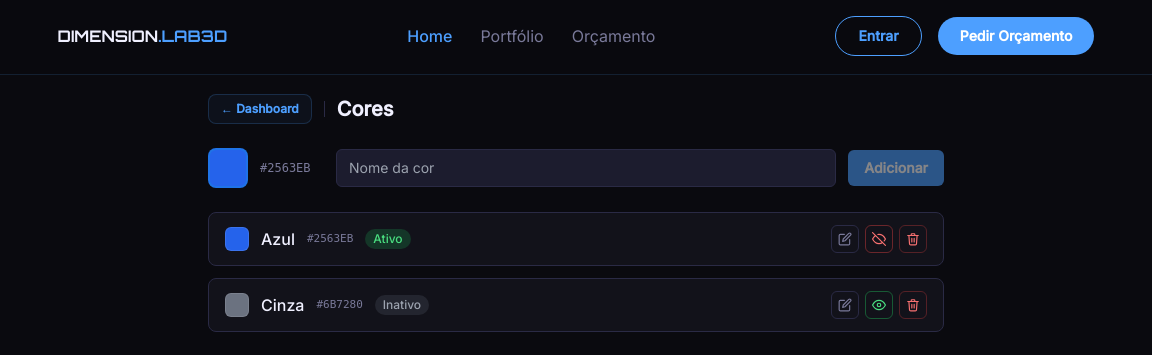
Scenario: ColorsAdmin › enters edit mode when edit button clicked
expect the text "Azul" is shown: met, box [261,227,295,251]
Click the button named "editar" in the row of "Azul" at (845, 239), box [831,225,859,253]
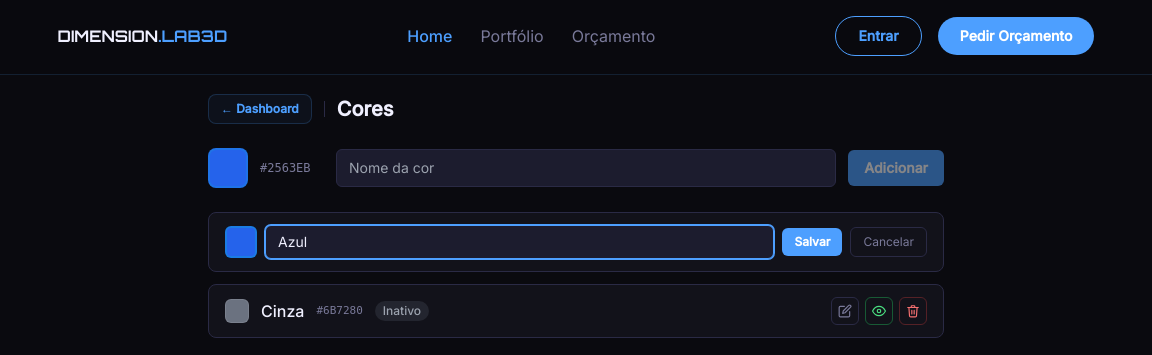
expect the field showing "Azul" is shown: met, box [265,225,774,259]
